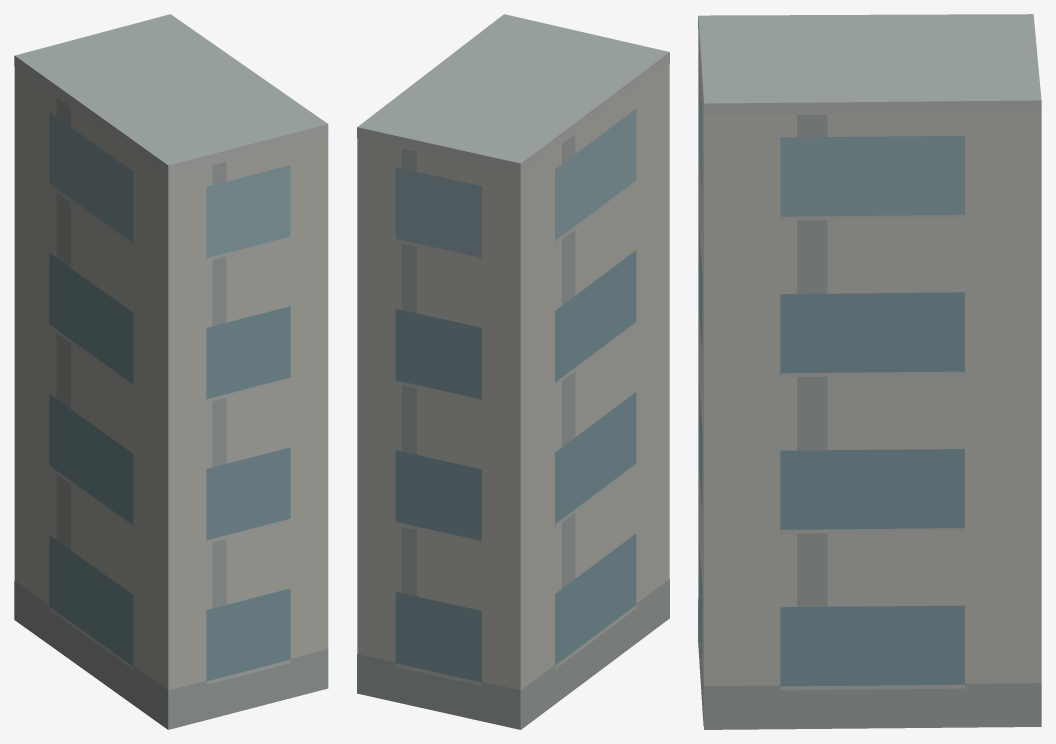
File: survey-upis-32623538.glb
3 views of the same model, side by side, from view 1: azimuth 30°, elevation 25°; view 2: azimuth 150°, elevation 25°; view 3: azimuth 270°, elevation 25° (orthographic). The views are drawn at different scales.
Visible parts, largest first — view 1: survey-upis-32623538.tmp; view 2: survey-upis-32623538.tmp; view 3: survey-upis-32623538.tmp.
Boxes of the visible parts, x1,y1,x2,y2 form: survey-upis-32623538.tmp: (14,14,328,729); survey-upis-32623538.tmp: (357,14,669,729); survey-upis-32623538.tmp: (698,14,1041,729).
Size of the model in its own units: 3.75 by 12.2 by 6.07.
